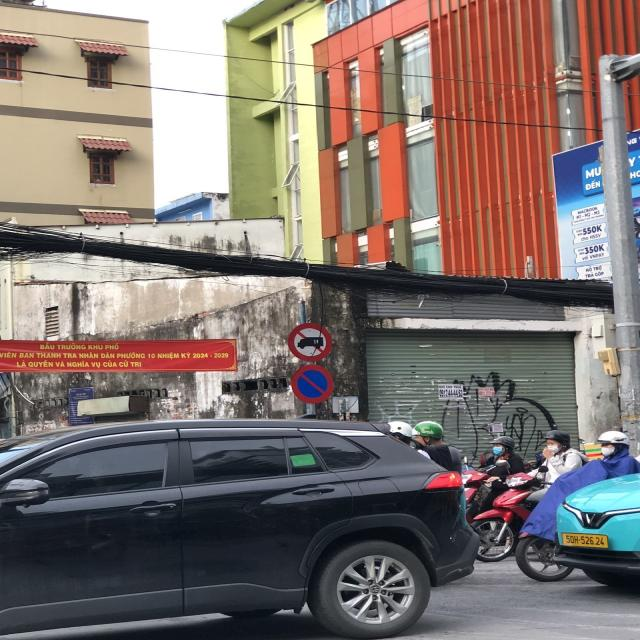Bien bao cam do xe: (288, 362, 336, 403)
Bien bao cam xe oto tai: (288, 320, 335, 364)
